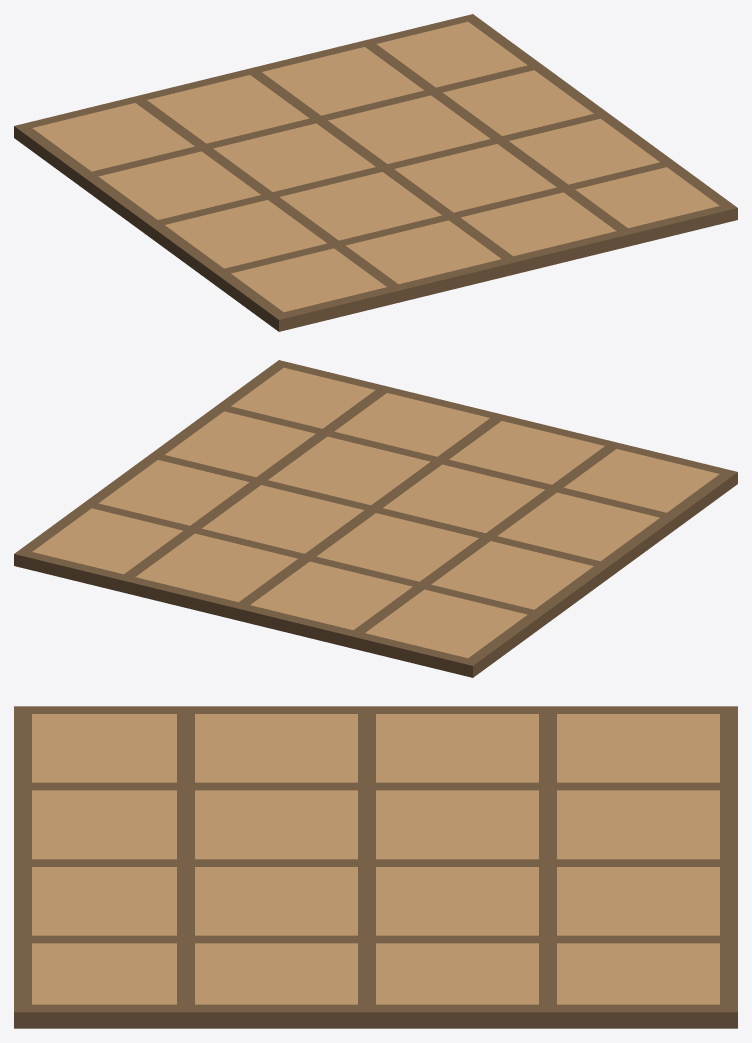
The model's file is road.obj.
3 renders of one model, top to bottom at view 1: azimuth 30°, elevation 25°; view 2: azimuth 150°, elevation 25°; view 3: azimuth 270°, elevation 25°, orthographic. The views are drawn at different scales.
Bounding box in the file's own units: 4 × 0.1 × 4.
Materials: 1 (1 with a texture image).
